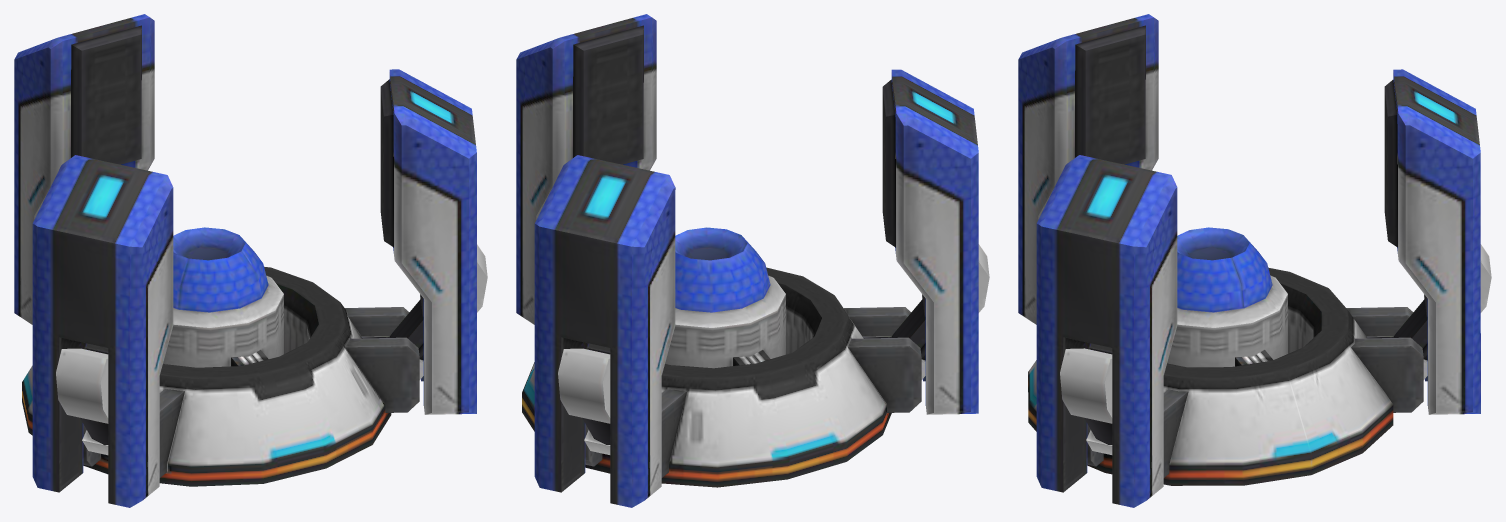
File: Prop_fangdaqi.FBX
The picture shows the model from 3 angles, left to right: view 1: azimuth 30°, elevation 25°; view 2: azimuth 150°, elevation 25°; view 3: azimuth 270°, elevation 25°; orthographic projection.
Parts seen in each view (by area): view 1: Prop_fangdaqi; view 2: Prop_fangdaqi; view 3: Prop_fangdaqi.
Part boxes in pixels (<box>): Prop_fangdaqi: <box>14,14,487,507</box>; Prop_fangdaqi: <box>516,14,989,507</box>; Prop_fangdaqi: <box>1018,14,1491,507</box>.
Size of the model in its own units: 2.38 by 1.67 by 2.18.
Materials: 1 (1 with a texture image).
